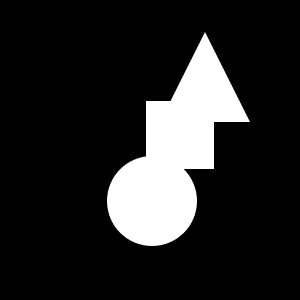circle: (146, 101, 214, 169)
rectangle: (107, 156, 197, 246)
triangle: (160, 32, 250, 122)
